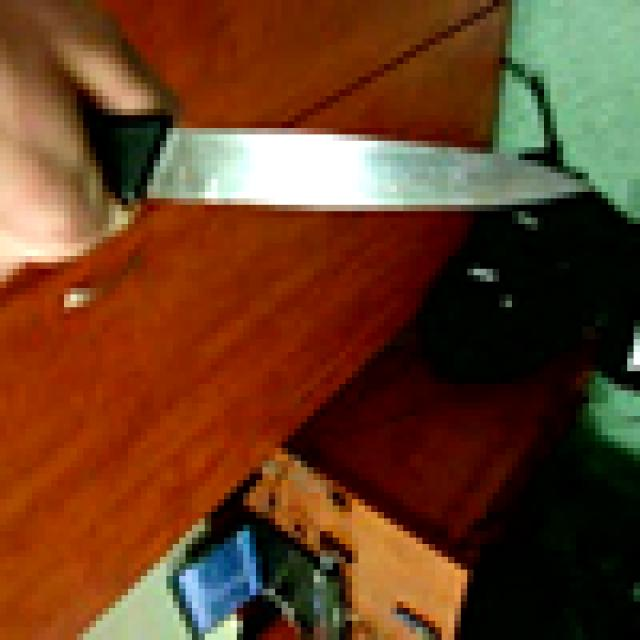Weapons: (121, 116, 603, 212)
